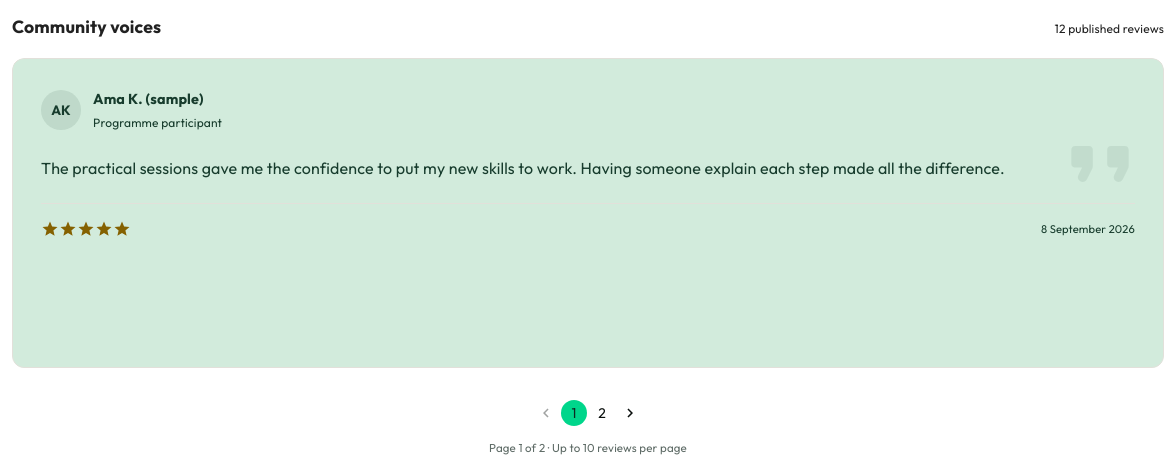
Test: reviews pagination › requests the selected page and replaces the cards
Check: the text "Ama K. (sample)" is shown, box 93,90 -> 204,108
Click the button named "Go to page 2" at (602, 413), box 589,400 -> 615,426
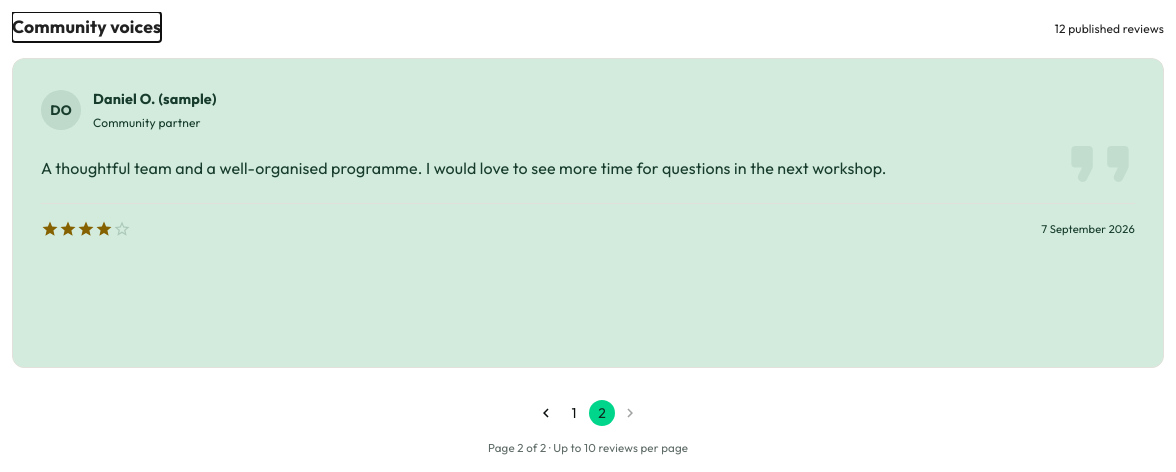
Check: the text "Daniel O. (sample)" is shown, box 93,90 -> 216,108
Check: the text "Ama K. (sample)" is gone
